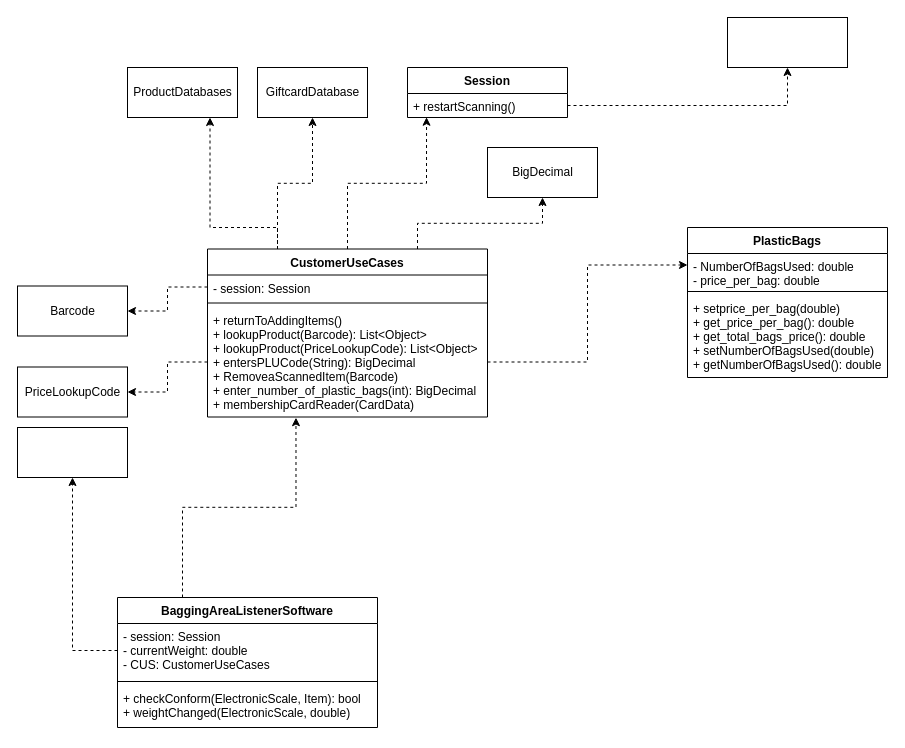
This 905x748 diagram has some shape labels left out. The shapes that lost their labels are listed below. From the top down, each one's centre as x and y in pixels, then its label:
At (787,42): "SelfCheckoutStation".
At (72,452): "Item".
